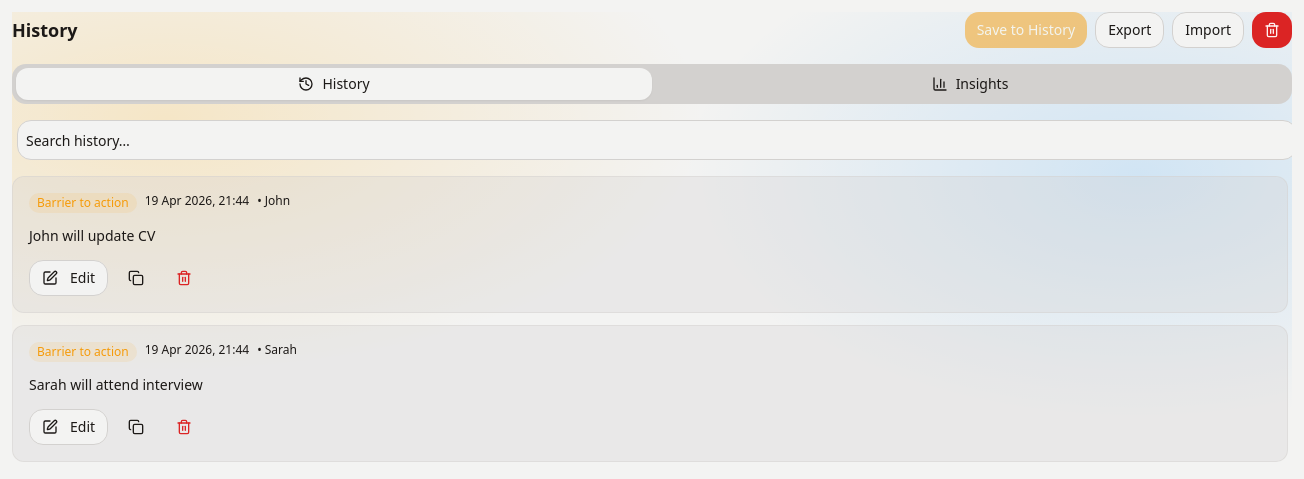
Test: HistoryPanel › filters history based on search input
Type "Sarah" into the search field with placeholder "Search history…" at (654, 140), box [17, 120, 1292, 160]
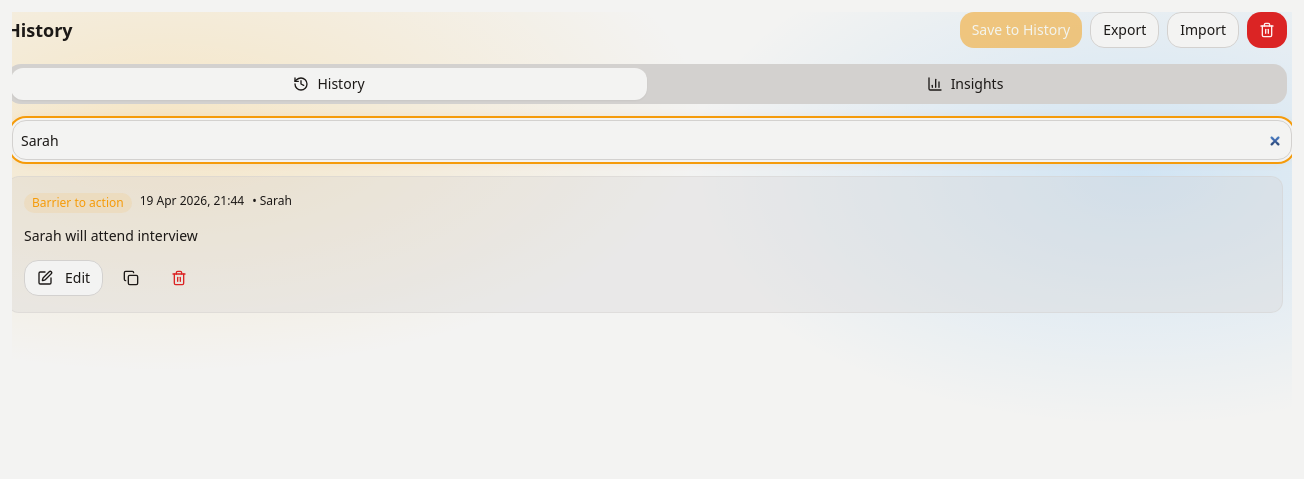
Expected: the text "Sarah will attend interview" is shown, [24, 226, 198, 245]
Now the text "John will update CV" is gone
